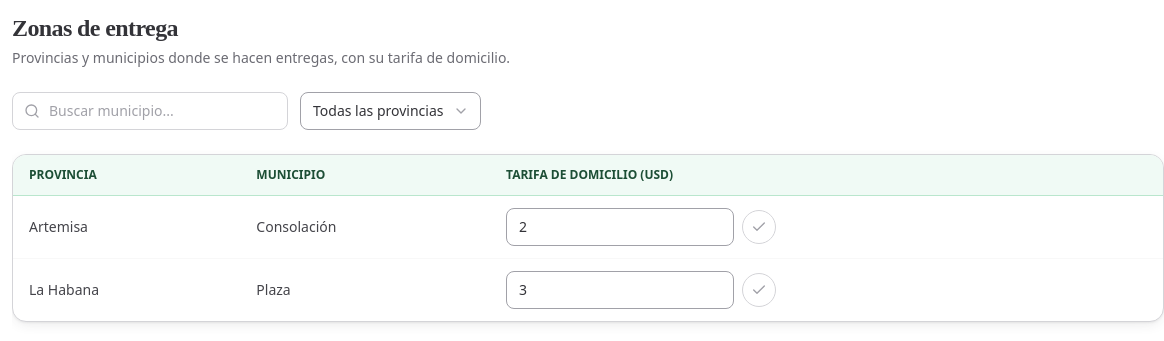
it: AdminDeliveryZonesPage › filtra los municipios por texto de búsqueda
Type "plaza" into the search field with placeholder "Buscar municipio...".
click(150, 111); type("plaza")  # box [12, 92, 288, 130]
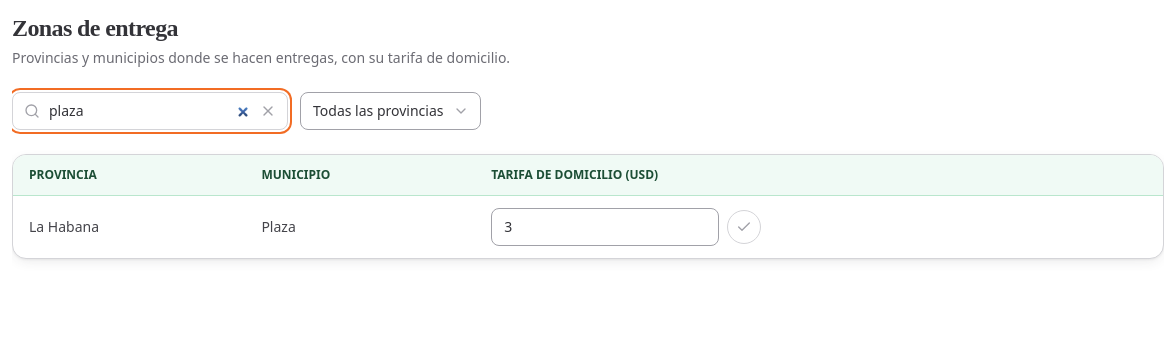
Expected: the text "Plaza" is shown, [245, 196, 475, 258]
Expected: the text "Consolación" is gone
